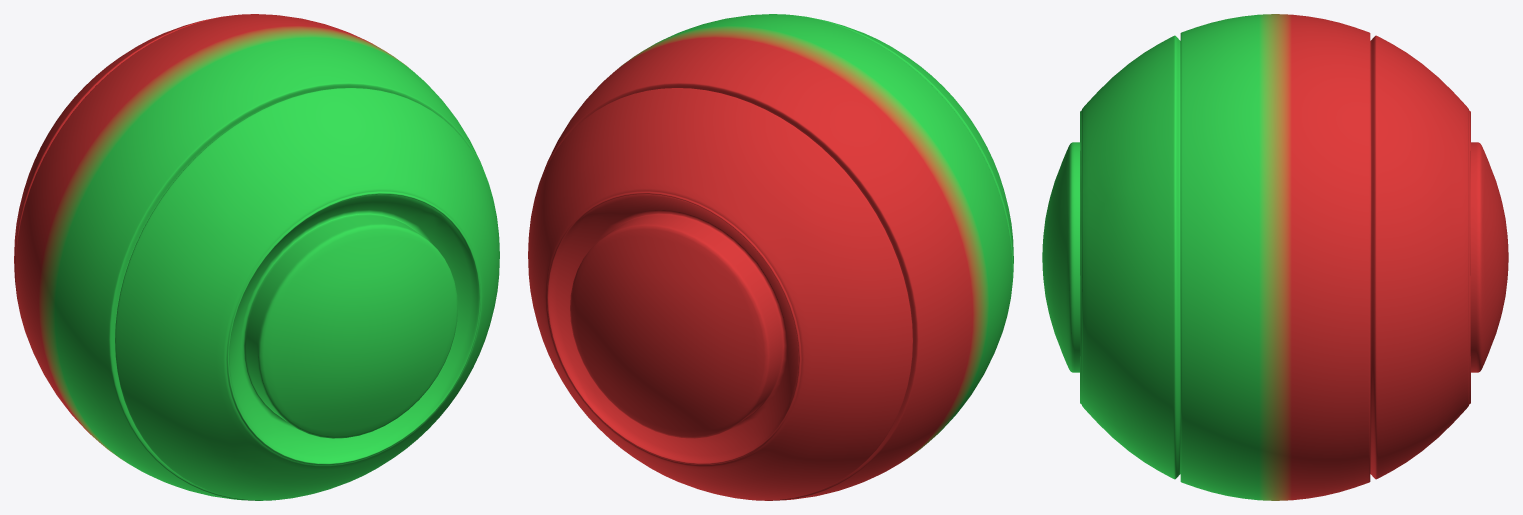
File: vertexcol_mix_sphere.fbx
3 views of the same model, side by side, from view 1: azimuth 30°, elevation 25°; view 2: azimuth 150°, elevation 25°; view 3: azimuth 270°, elevation 25° (orthographic).
Visible parts, largest first — view 1: vertexcol_mix_sphere; view 2: vertexcol_mix_sphere; view 3: vertexcol_mix_sphere.
Boxes of the visible parts, <box> form: vertexcol_mix_sphere: <box>14,14,499,500</box>; vertexcol_mix_sphere: <box>528,14,1013,500</box>; vertexcol_mix_sphere: <box>1042,14,1508,500</box>.
Bounding box in the file's own units: 199 × 199 × 190.
